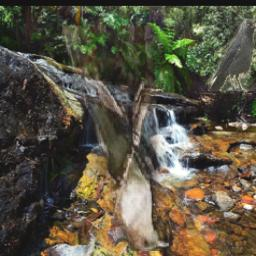Crow: (209, 19, 256, 91)
Cuckoo: (63, 26, 170, 251)
